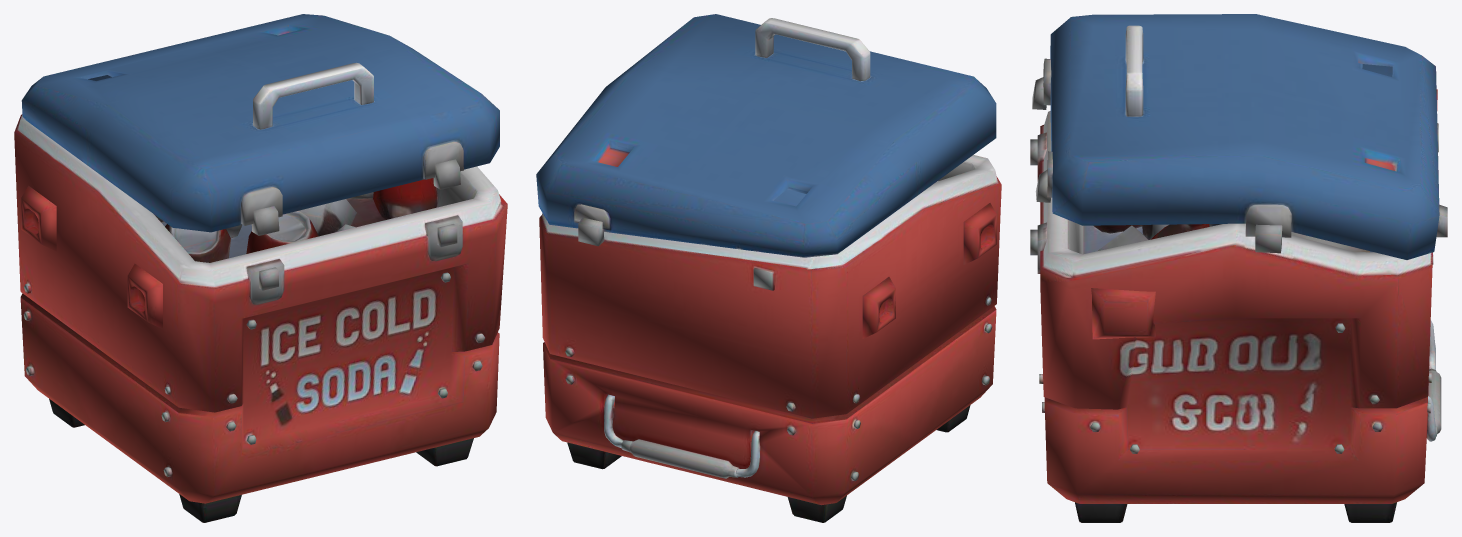
The model's file is 탄산음료 아이스박스.glb.
3 views of the same model, side by side, from view 1: azimuth 30°, elevation 25°; view 2: azimuth 150°, elevation 25°; view 3: azimuth 270°, elevation 25° (orthographic). The views are drawn at different scales.
Visible parts, largest first — view 1: tripo_node_2075ddbd-5744-45db-9816-076b232f42e8; view 2: tripo_node_2075ddbd-5744-45db-9816-076b232f42e8; view 3: tripo_node_2075ddbd-5744-45db-9816-076b232f42e8.
Boxes of the visible parts, x1,y1,x2,y2 form: tripo_node_2075ddbd-5744-45db-9816-076b232f42e8: (14,14,507,522); tripo_node_2075ddbd-5744-45db-9816-076b232f42e8: (536,14,1001,522); tripo_node_2075ddbd-5744-45db-9816-076b232f42e8: (1030,14,1447,522).
Size of the model in its own units: 0.9316 by 0.998 by 0.9238.
Materials: 1 (1 with a texture image).
